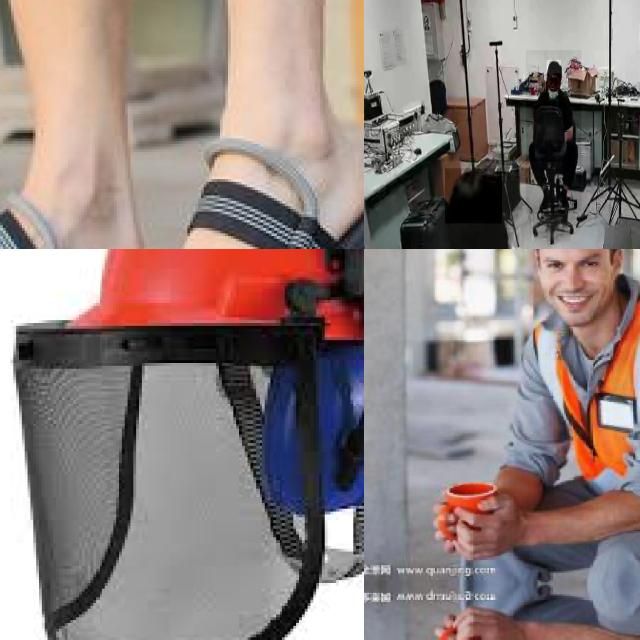Ear-protection: (267, 340, 364, 520)
No_Ear-Protection: (611, 249, 624, 282)
No_Glasses: (538, 249, 605, 275)
Sandals: (102, 115, 364, 249)
face_nomask: (546, 74, 560, 92)
hand_noglove: (446, 466, 640, 558)
head_helmet: (53, 249, 364, 343)
head_nohelmet: (445, 168, 503, 224), (546, 60, 562, 74)
person: (421, 161, 562, 249), (526, 50, 582, 214)
shoes: (555, 185, 573, 213), (538, 186, 554, 213)
